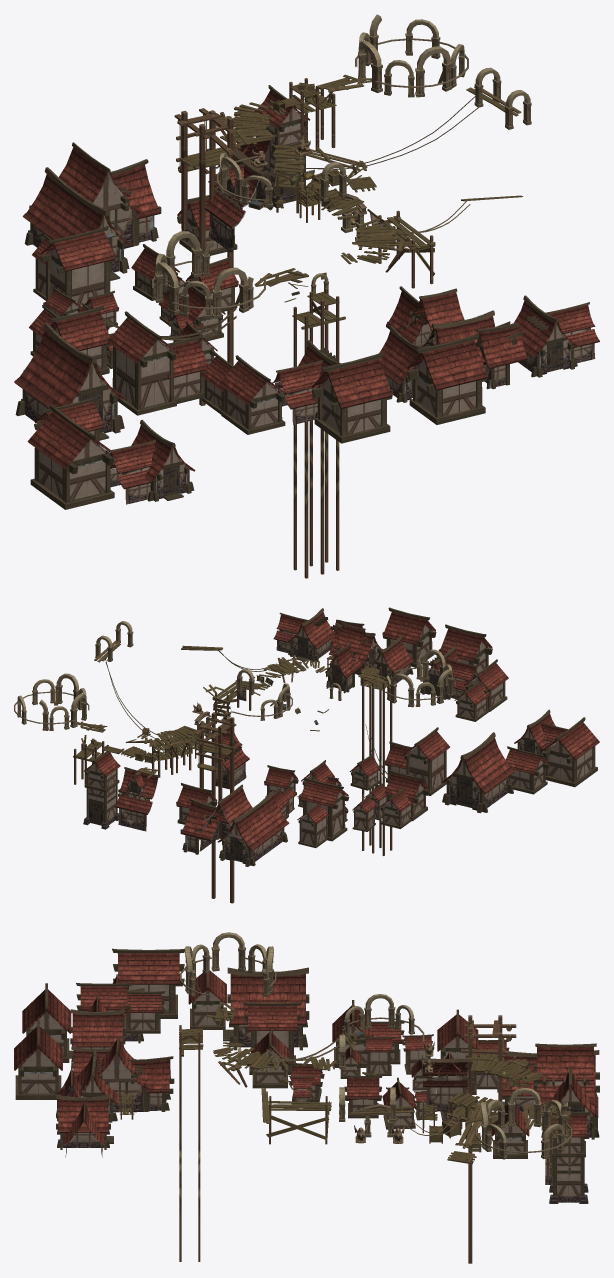
File: bfcs_01.FBX
The picture shows the model from 3 angles, top to bottom: view 1: azimuth 30°, elevation 25°; view 2: azimuth 150°, elevation 25°; view 3: azimuth 270°, elevation 25°; orthographic projection. The views are drawn at different scales.
Visible parts, largest first — view 1: bfcs_01; view 2: bfcs_01; view 3: bfcs_01.
Part boxes in pixels (left/top/right/bottom): bfcs_01: left=14, top=14, right=599, bottom=578; bfcs_01: left=14, top=607, right=599, bottom=903; bfcs_01: left=14, top=932, right=599, bottom=1263.
Bounding box in the file's own units: 3370 × 1718 × 3183.
